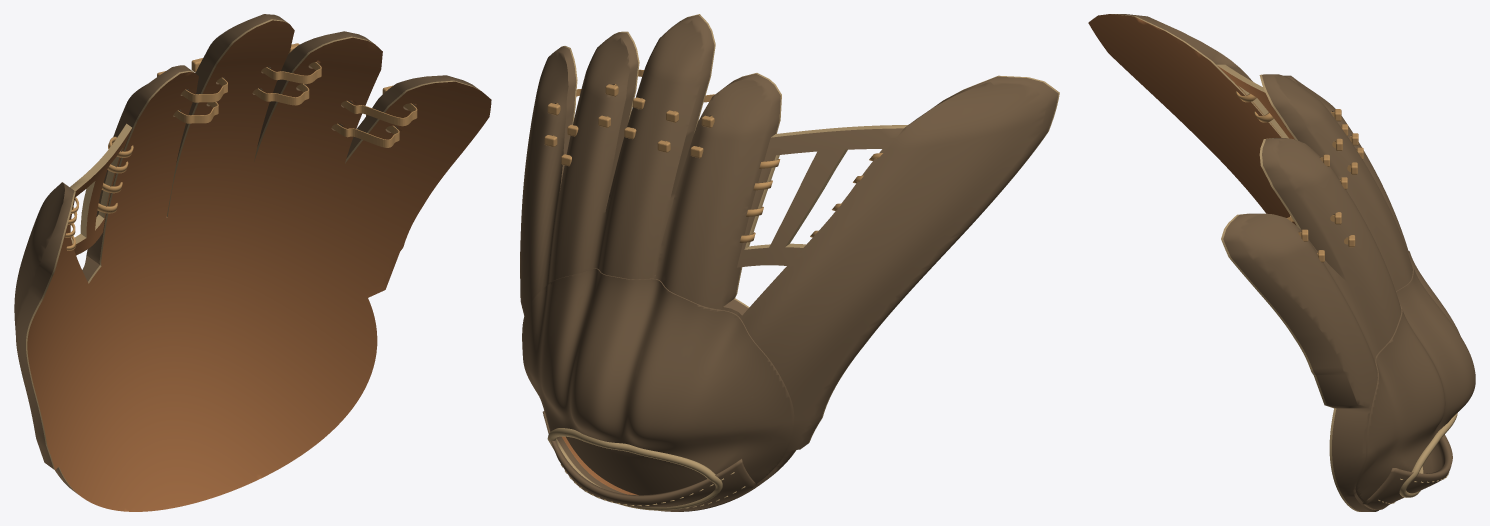
3 renders of one model, left to right at view 1: azimuth 30°, elevation 25°; view 2: azimuth 150°, elevation 25°; view 3: azimuth 270°, elevation 25°, orthographic. The views are drawn at different scales.
Parts seen in each view (by area): view 1: Continuous leather palm thumb and four finger panel, Complete open two-window I web, Complete flat finger crosslace 2 1, Complete flat finger crosslace 2 0, Complete flat finger crosslace 1 1, Complete flat finger crosslace 1 0; view 2: Continuous leather palm thumb and four finger panel, Complete hollow back hood, Complete open two-window I web, Complete curved cuff band, Complete bound oval wrist opening; view 3: Continuous leather palm thumb and four finger panel, Complete hollow back hood, Complete curved cuff band, Complete open two-window I web, Complete bound oval wrist opening.
Boxes of the visible parts, <box> form: Continuous leather palm thumb and four finger panel: <box>14,14,491,511</box>; Complete open two-window I web: <box>70,123,131,255</box>; Complete flat finger crosslace 2 1: <box>341,101,417,126</box>; Complete flat finger crosslace 2 0: <box>331,123,399,147</box>; Complete flat finger crosslace 1 1: <box>261,62,321,83</box>; Complete flat finger crosslace 1 0: <box>252,83,309,105</box>; Continuous leather palm thumb and four finger panel: <box>520,14,1059,511</box>; Complete hollow back hood: <box>522,268,794,495</box>; Complete open two-window I web: <box>737,124,908,267</box>; Complete curved cuff band: <box>542,410,757,511</box>; Complete bound oval wrist opening: <box>547,428,722,510</box>; Continuous leather palm thumb and four finger panel: <box>1088,14,1412,511</box>; Complete hollow back hood: <box>1355,251,1475,502</box>; Complete curved cuff band: <box>1362,434,1452,509</box>; Complete open two-window I web: <box>1216,64,1294,139</box>; Complete bound oval wrist opening: <box>1399,412,1457,497</box>.
Bounding box in the file's own units: 0.2079 × 0.202 × 0.1664.
